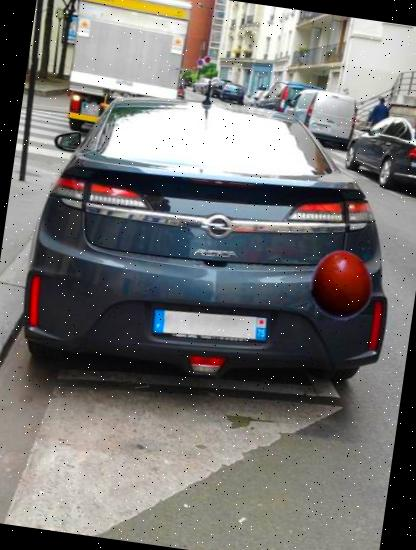Tamarillo: (298, 244, 384, 330)
